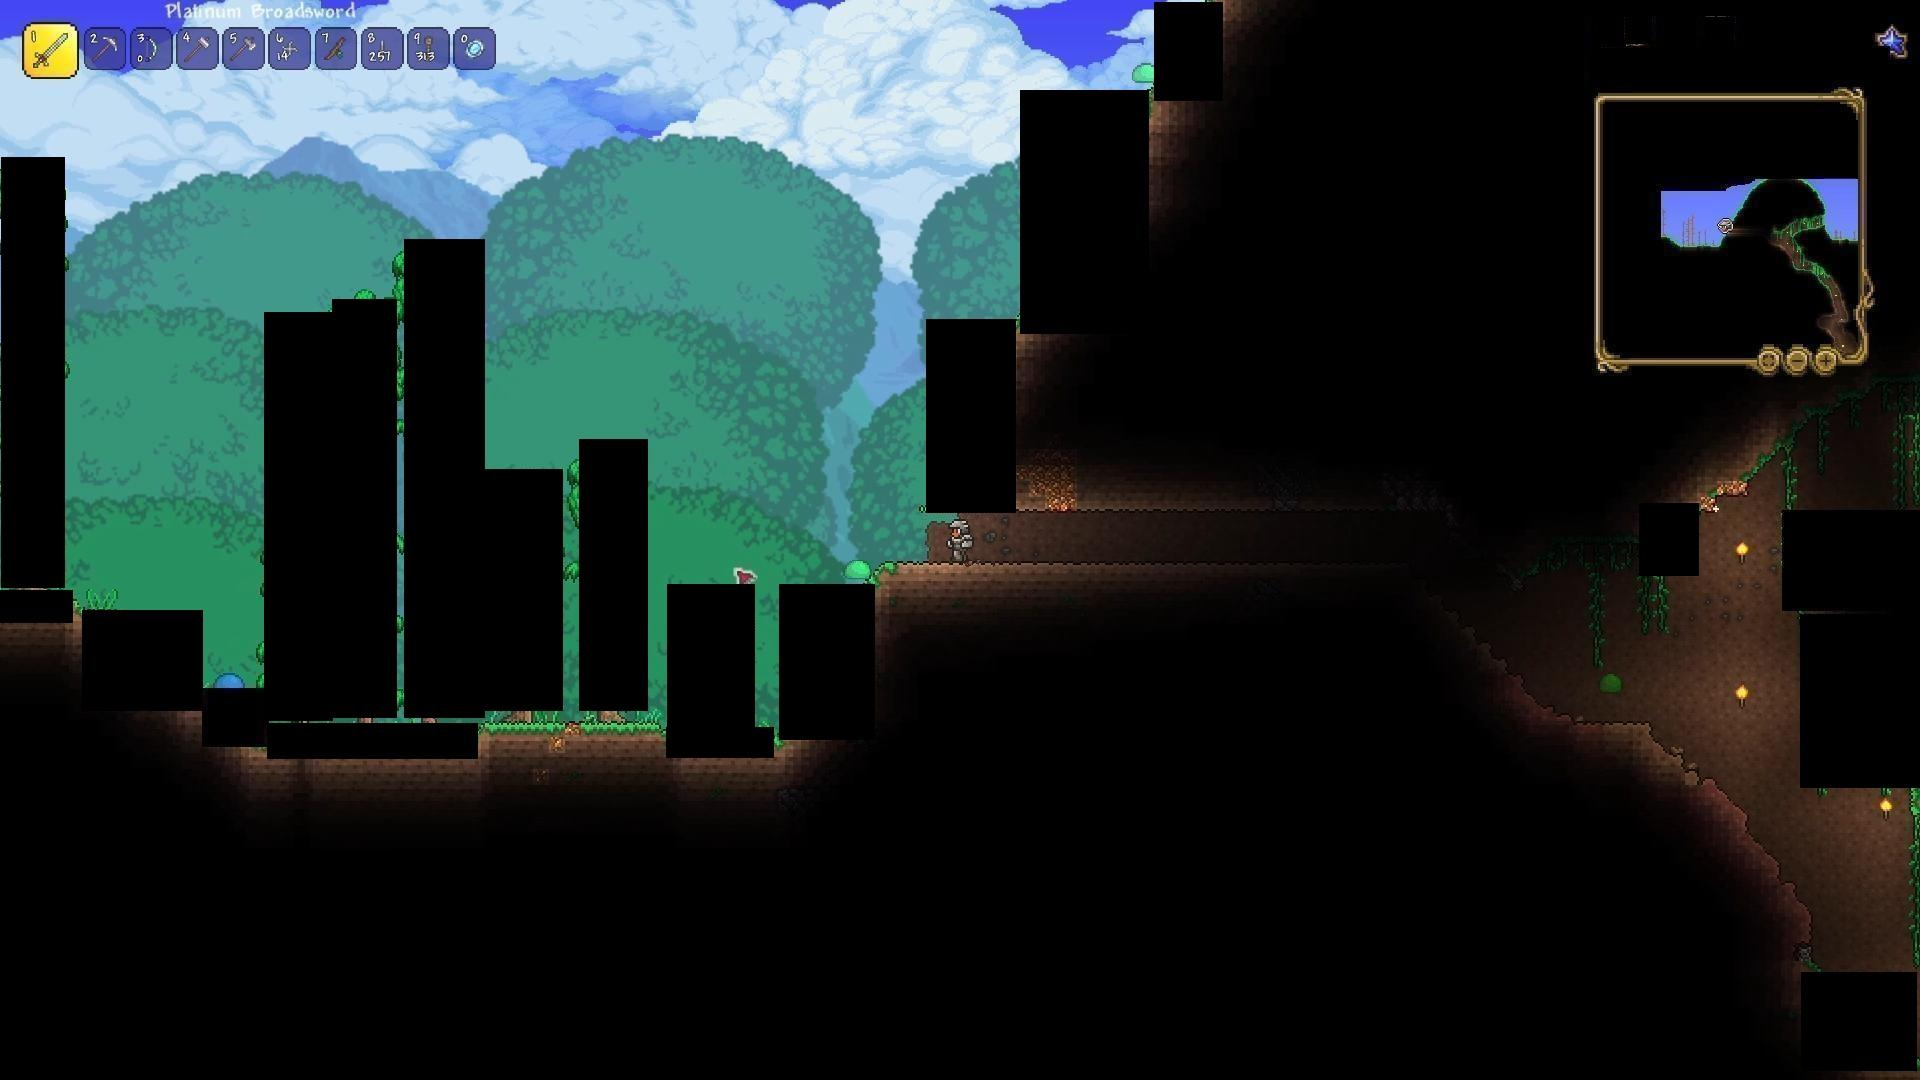dirt: (477, 713, 665, 750)
slime: (1125, 59, 1160, 84), (1597, 670, 1626, 698), (845, 553, 872, 582), (216, 665, 245, 691)
